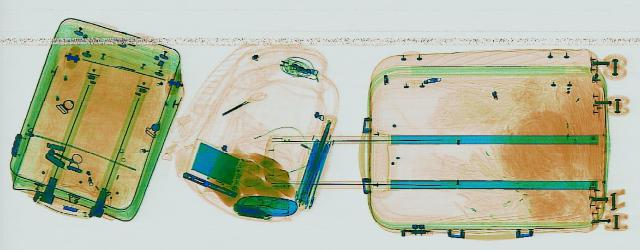Scissors: (39, 147, 99, 168)
